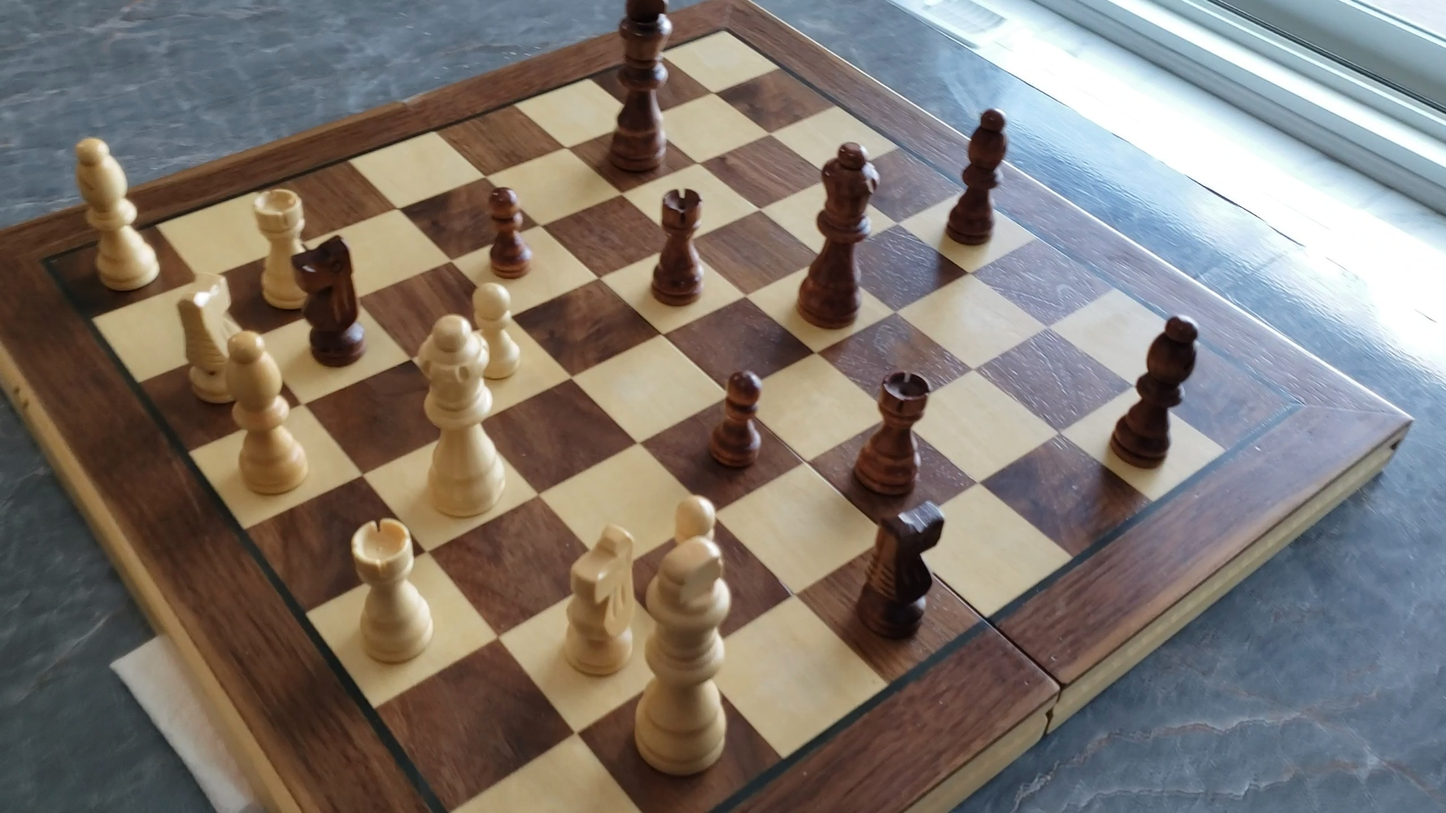black-bishop: (1108, 311, 1201, 466), (943, 101, 1008, 242)
black-king: (597, 0, 680, 181)
black-knight: (850, 498, 949, 641), (290, 232, 368, 366)
black-pawn: (706, 365, 767, 471), (485, 182, 533, 282)
black-queen: (795, 139, 881, 330)
black-rook: (852, 368, 933, 497), (650, 185, 707, 307)
white-bishop: (219, 327, 312, 499), (69, 131, 162, 296)
white-king: (627, 527, 738, 783)
white-knight: (556, 520, 643, 680), (175, 271, 245, 409)
white-pawn: (466, 278, 526, 384)
white-queen: (410, 308, 509, 522)
white-rook: (346, 514, 438, 668), (247, 183, 313, 314)
